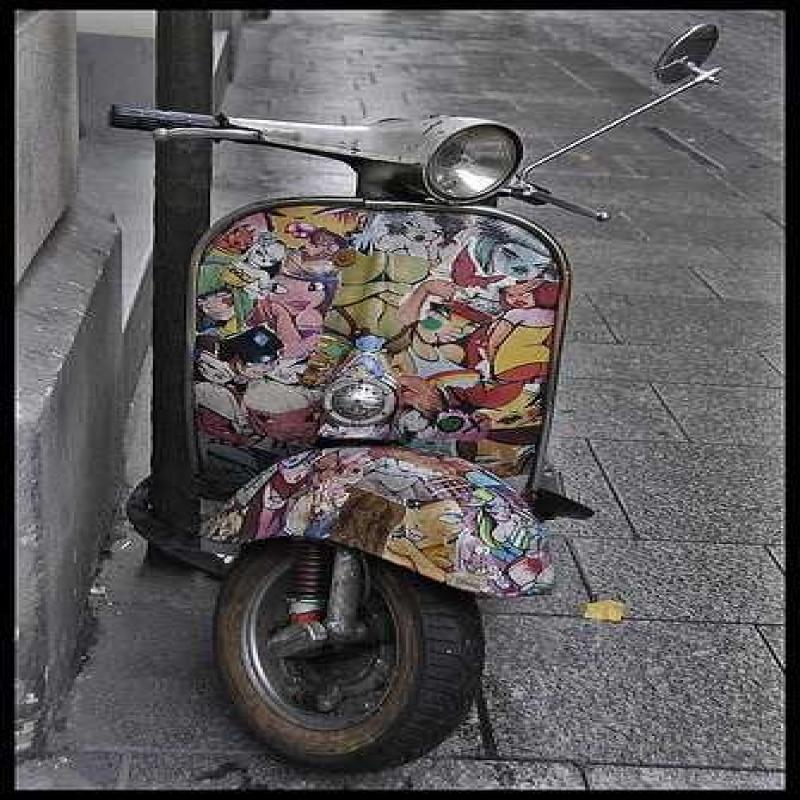bike: (89, 62, 661, 766)
